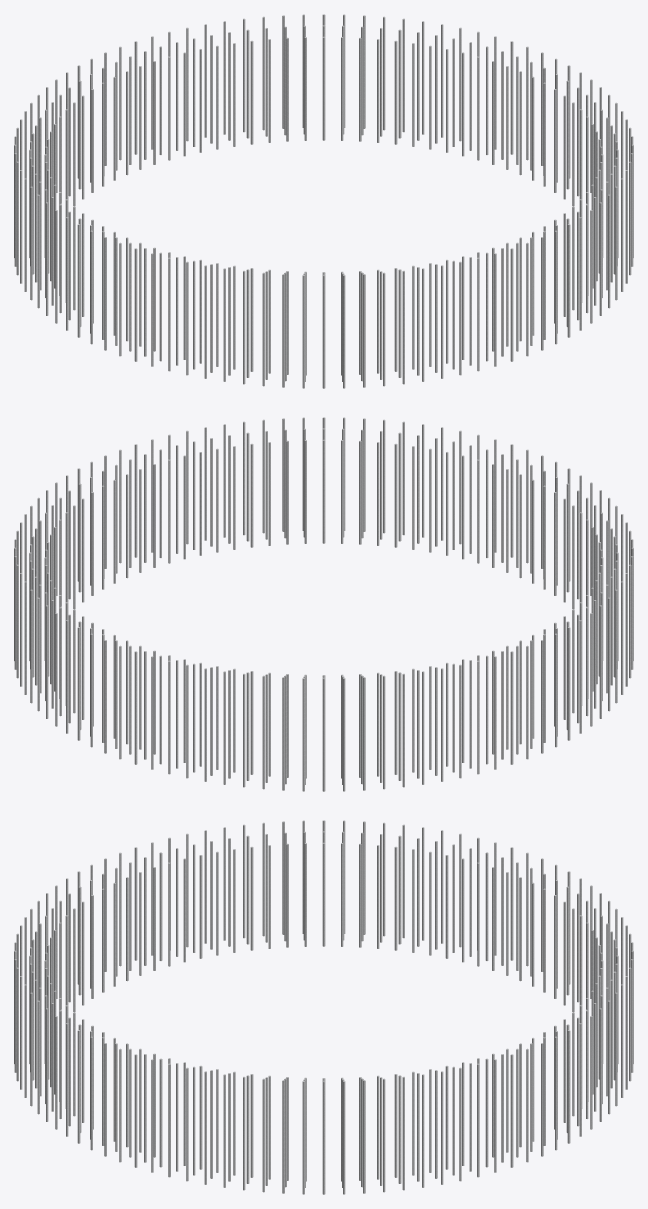
Rendered from columns.glb.
The picture shows the model from 3 angles, top to bottom: view 1: azimuth 30°, elevation 25°; view 2: azimuth 150°, elevation 25°; view 3: azimuth 270°, elevation 25°; orthographic projection.
Parts seen in each view (by area): view 1: Obj_002920; view 2: Obj_002920; view 3: Obj_002920.
Boxes of the visible parts, x1=… form: Obj_002920: x1=14, y1=14, x2=633, y2=388; Obj_002920: x1=14, y1=417, x2=633, y2=791; Obj_002920: x1=14, y1=820, x2=633, y2=1194.
Size of the model in its own units: 304 by 60.97 by 304.
1 material, 1 textured.
